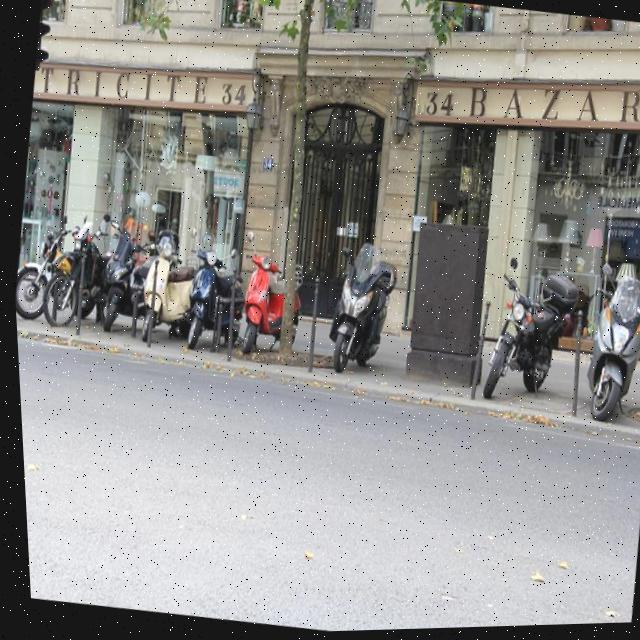motorcycle: (471, 255, 587, 411), (316, 228, 414, 384), (565, 240, 640, 433), (227, 231, 317, 364), (168, 233, 254, 358), (39, 207, 118, 335), (126, 225, 205, 350), (88, 210, 160, 339), (11, 210, 74, 330)
